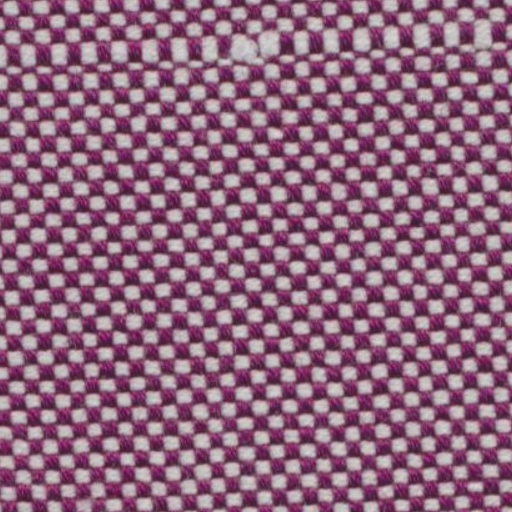DaiSha: (17, 19, 502, 83)
